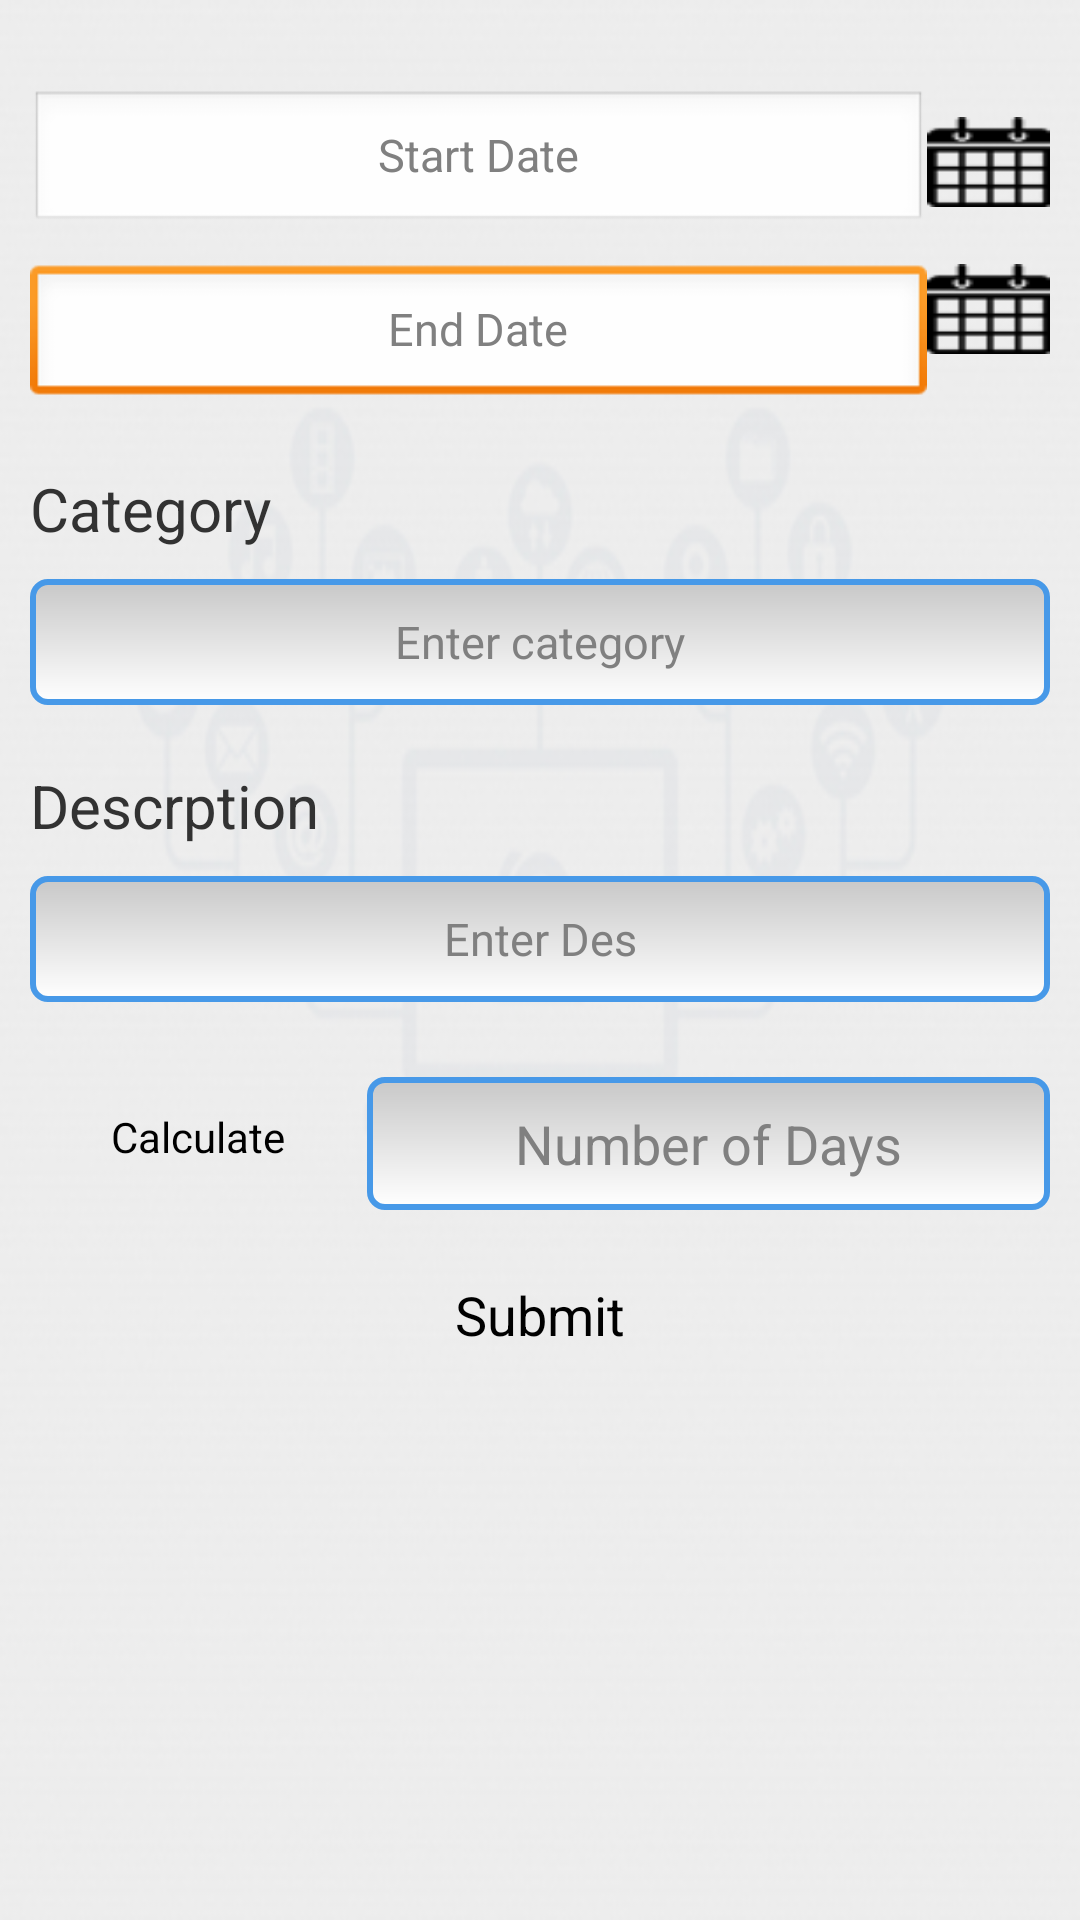

Screen size 1080 x 1920. Icon name, then its center in pixels as (x=x, y=y):
calendarblack: (x=988, y=162), (x=988, y=309)
